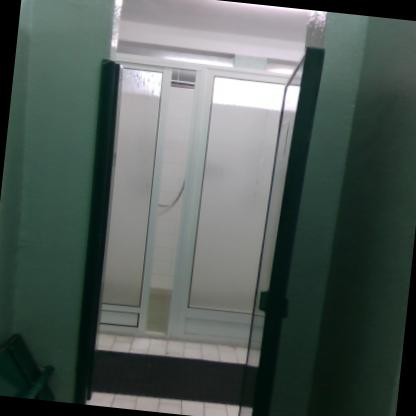closed: (167, 64, 301, 370)
open: (66, 16, 351, 415)
